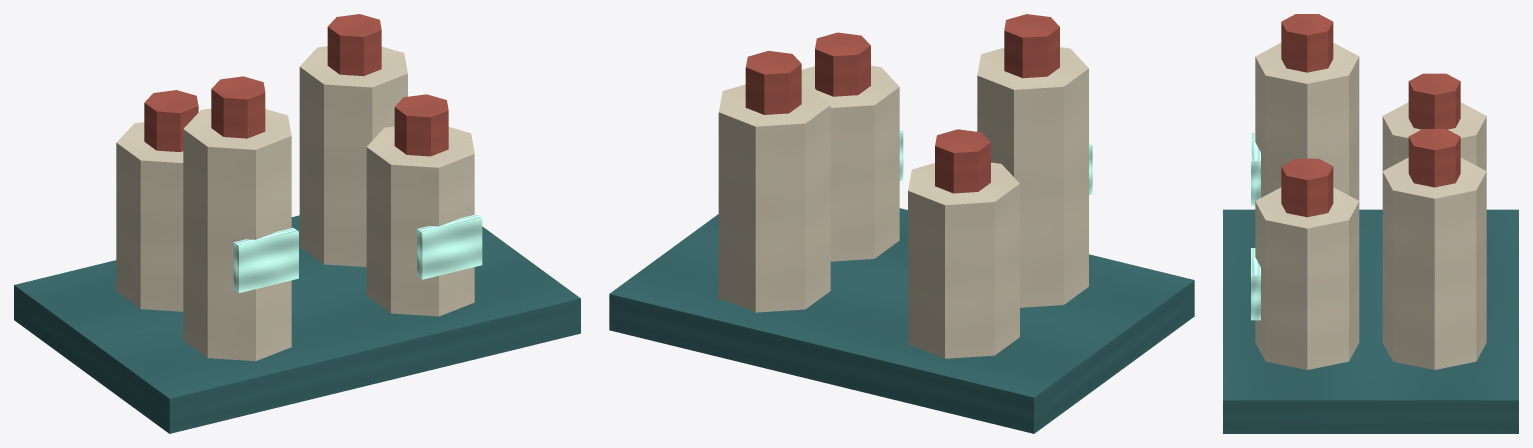
Rendered from atlas100-s031-a04.lod1.glb.
The picture shows the model from 3 angles, left to right: view 1: azimuth 30°, elevation 25°; view 2: azimuth 150°, elevation 25°; view 3: azimuth 270°, elevation 25°; orthographic projection. The views are drawn at different scales.
Parts seen in each view (by area): view 1: atlas100-s031-a04:part-000, atlas100-s031-a04:part-007, atlas100-s031-a04:part-004, atlas100-s031-a04:part-010, atlas100-s031-a04:part-001, atlas100-s031-a04:part-009, atlas100-s031-a04:part-012, atlas100-s031-a04:part-008, atlas100-s031-a04:part-011, atlas100-s031-a04:part-005, atlas100-s031-a04:part-002; view 2: atlas100-s031-a04:part-000, atlas100-s031-a04:part-004, atlas100-s031-a04:part-007, atlas100-s031-a04:part-001, atlas100-s031-a04:part-010, atlas100-s031-a04:part-005, atlas100-s031-a04:part-011, atlas100-s031-a04:part-002, atlas100-s031-a04:part-008; view 3: atlas100-s031-a04:part-000, atlas100-s031-a04:part-004, atlas100-s031-a04:part-010, atlas100-s031-a04:part-007, atlas100-s031-a04:part-001, atlas100-s031-a04:part-011, atlas100-s031-a04:part-008, atlas100-s031-a04:part-005, atlas100-s031-a04:part-002, atlas100-s031-a04:part-012, atlas100-s031-a04:part-009.
Boxes of the visible parts, x1,y1,x2,y2 form: atlas100-s031-a04:part-000: [14, 215, 580, 433]; atlas100-s031-a04:part-007: [183, 108, 291, 361]; atlas100-s031-a04:part-004: [299, 46, 407, 266]; atlas100-s031-a04:part-010: [366, 126, 474, 316]; atlas100-s031-a04:part-001: [116, 122, 183, 311]; atlas100-s031-a04:part-009: [233, 227, 298, 292]; atlas100-s031-a04:part-012: [417, 214, 482, 279]; atlas100-s031-a04:part-008: [211, 76, 265, 138]; atlas100-s031-a04:part-011: [394, 94, 448, 156]; atlas100-s031-a04:part-005: [327, 14, 381, 76]; atlas100-s031-a04:part-002: [144, 90, 198, 152]; atlas100-s031-a04:part-000: [609, 208, 1194, 433]; atlas100-s031-a04:part-004: [718, 84, 830, 312]; atlas100-s031-a04:part-007: [977, 47, 1088, 307]; atlas100-s031-a04:part-001: [908, 162, 1019, 358]; atlas100-s031-a04:part-010: [801, 65, 899, 261]; atlas100-s031-a04:part-005: [745, 50, 801, 114]; atlas100-s031-a04:part-011: [815, 32, 870, 96]; atlas100-s031-a04:part-002: [935, 129, 990, 193]; atlas100-s031-a04:part-008: [1004, 14, 1059, 78]; atlas100-s031-a04:part-000: [1223, 209, 1518, 433]; atlas100-s031-a04:part-004: [1382, 157, 1486, 369]; atlas100-s031-a04:part-010: [1255, 187, 1359, 369]; atlas100-s031-a04:part-007: [1255, 43, 1359, 200]; atlas100-s031-a04:part-001: [1382, 102, 1486, 170]; atlas100-s031-a04:part-011: [1281, 158, 1333, 217]; atlas100-s031-a04:part-008: [1281, 14, 1333, 72]; atlas100-s031-a04:part-005: [1408, 129, 1460, 187]; atlas100-s031-a04:part-002: [1408, 73, 1460, 129]; atlas100-s031-a04:part-012: [1251, 248, 1260, 320]; atlas100-s031-a04:part-009: [1251, 133, 1260, 205].
Size of the model in its own units: 1.18 by 0.7804 by 0.7697.
Materials: 4 (4 with a texture image).
